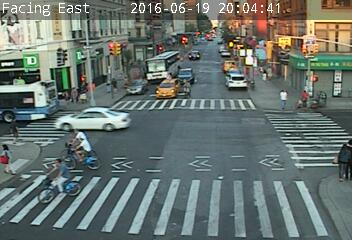neg: (36, 156, 80, 214), (59, 122, 99, 176), (177, 79, 195, 103), (239, 67, 254, 86), (217, 56, 231, 75), (231, 79, 242, 93)
pos: (270, 83, 295, 117), (2, 115, 26, 146)
